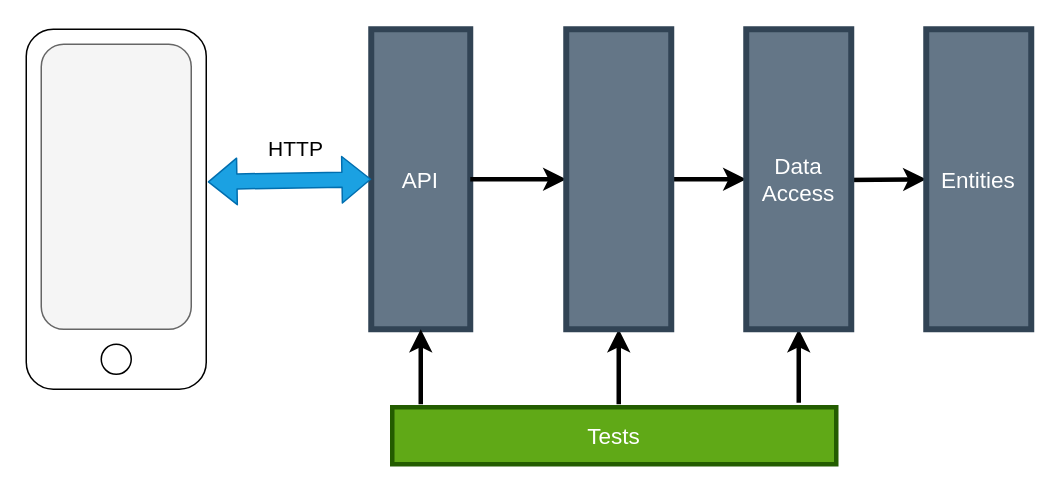
Some shapes in this 1061 by 492 pixel diagram are drawn without their labels. The centre of each missing label's shape, as x and y in pixels:
Core: (618,179)
React Native App: (115,186)
